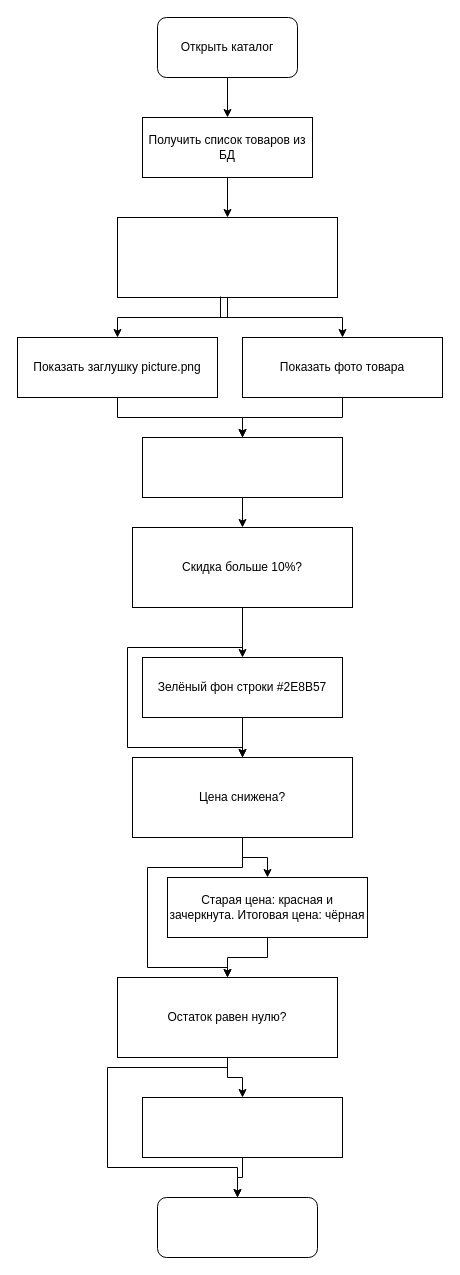
Image size: 460x1275. Some labels were removed from this diagram. The centre of each missing label's shape, as x and y in pixels:
Вывести данные товара: the point at 242,467
Показать готовый каталог: the point at 237,1227
Полупрозрачный фон строки: the point at 242,1127
У товара есть фото?: the point at 227,257
